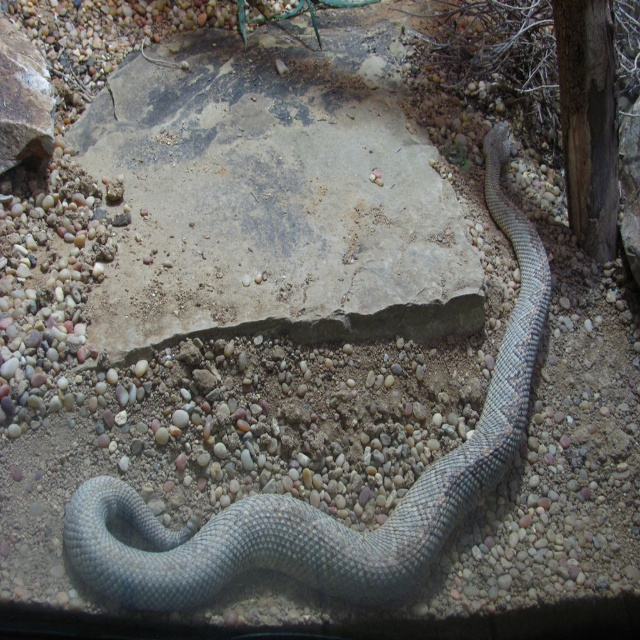Snake: (63, 120, 550, 614)
